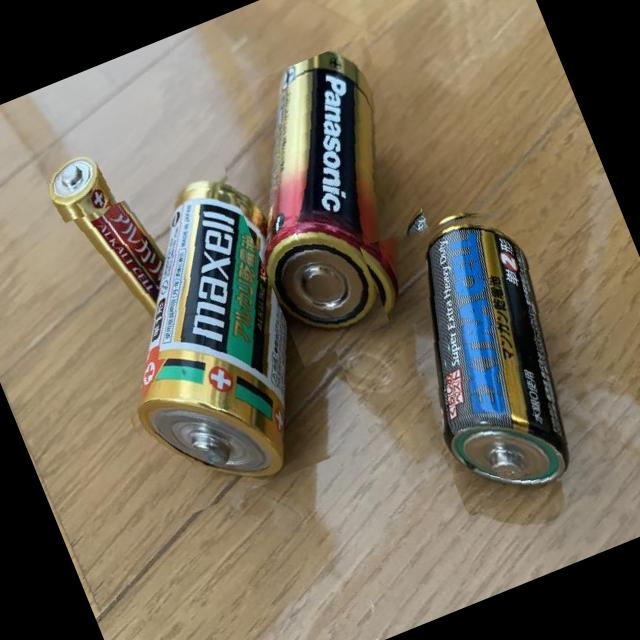Hazard: (46, 146, 372, 524), (198, 36, 472, 369), (359, 186, 619, 516), (34, 119, 206, 364)
